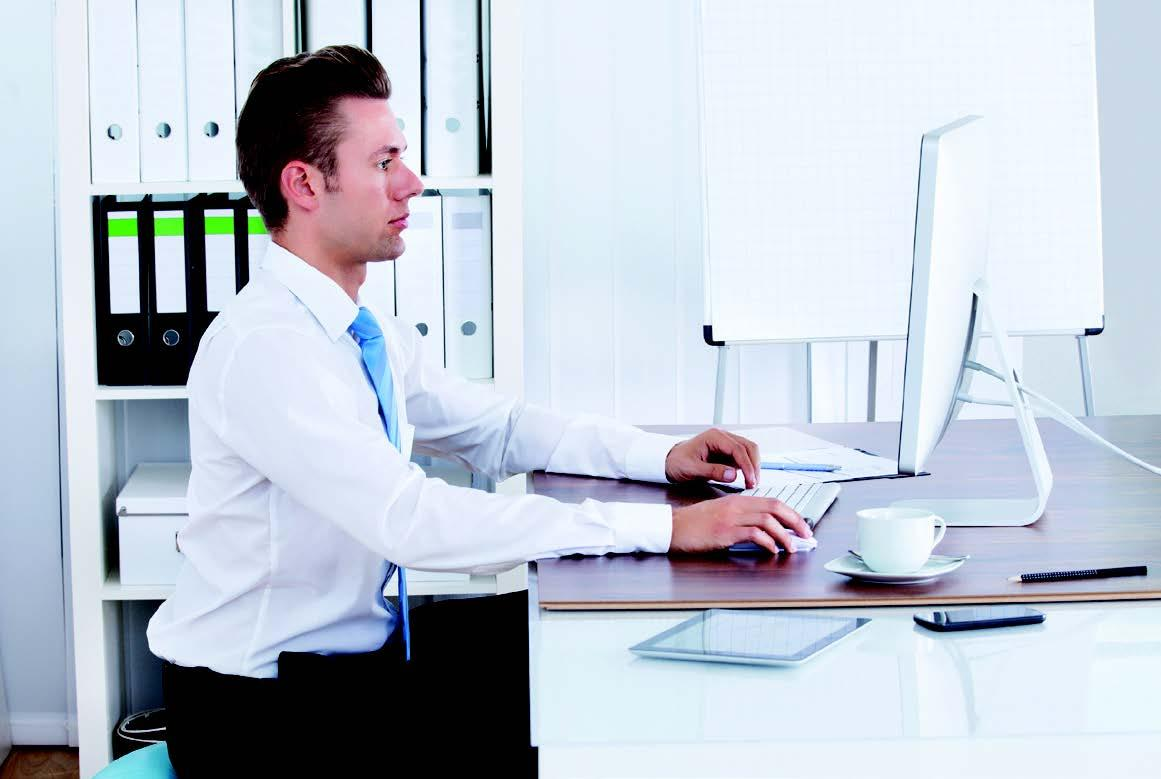Good Sitting Posture: (143, 42, 817, 775)
